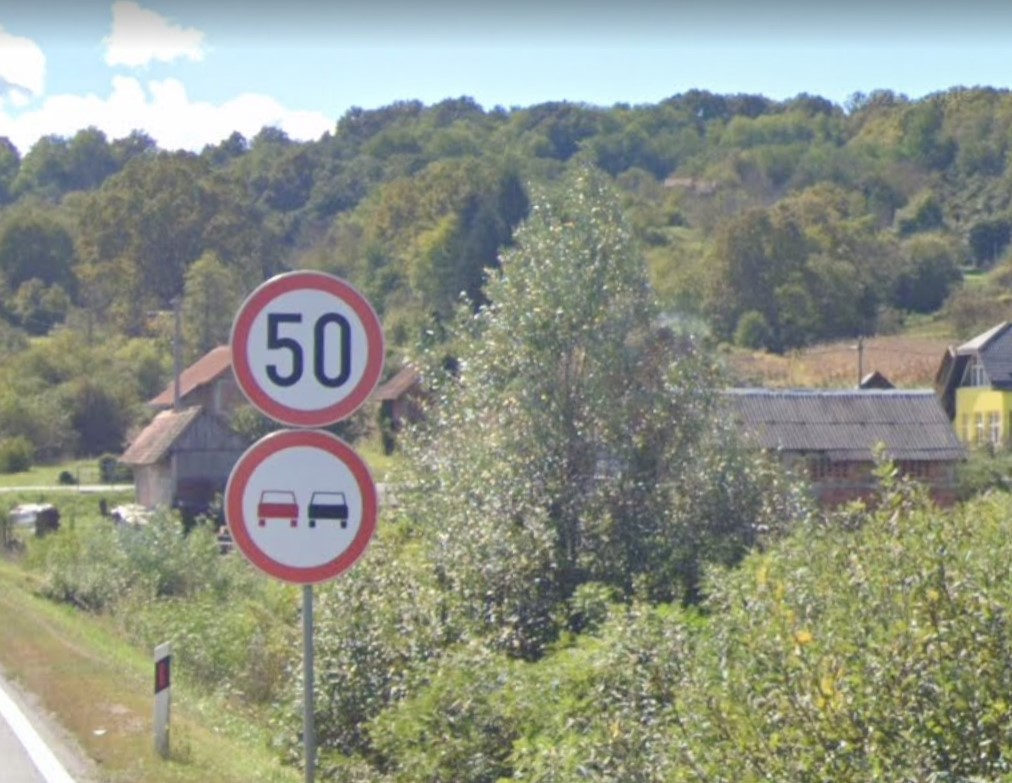Ograničenje brzine 50: (230, 268, 386, 427)
Zabrana pretjecanja: (225, 428, 379, 585)
